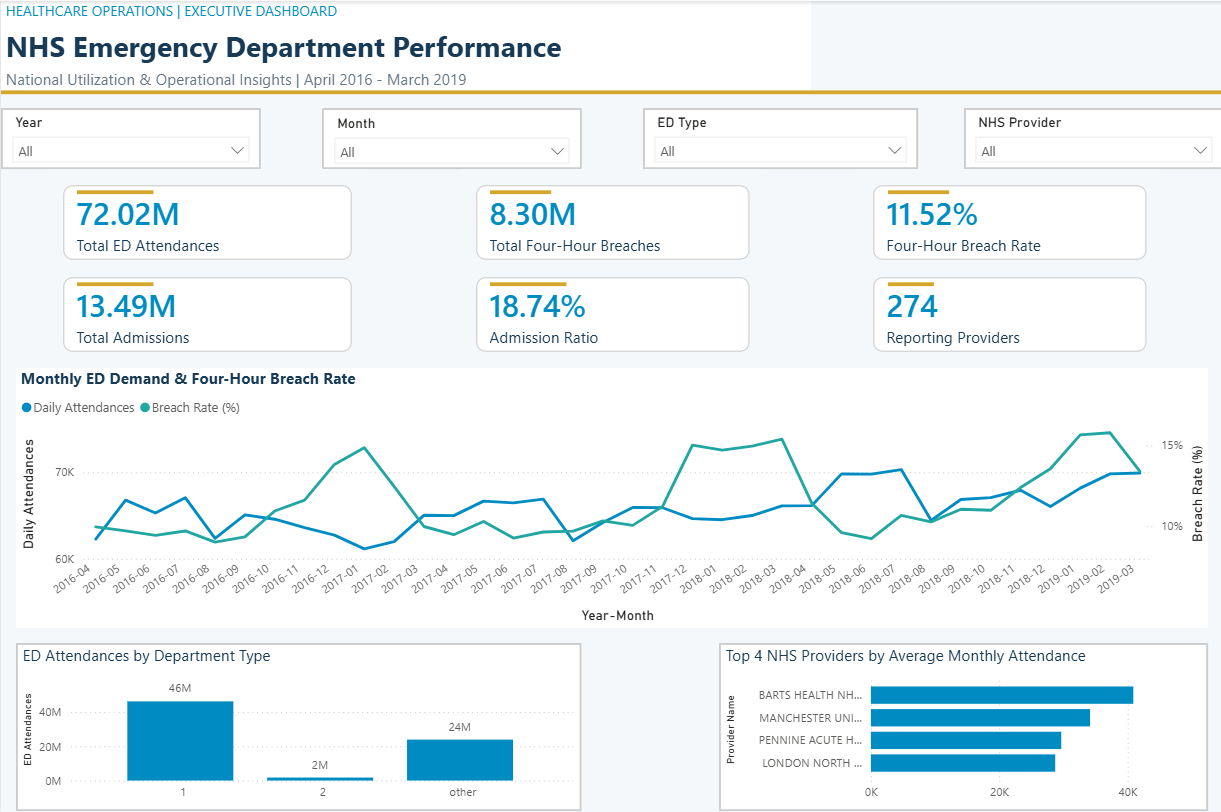

This screenshot's page, from the dashboard's own definition file:
{"tool":"powerbi","page":{"name":"Page 1","canvas":[1280,850],"ordinal":0},"visuals":[{"type":"slicer","fields":{"Values":["DateTable.Year"]},"box":[0,112,272,64],"z":0},{"type":"slicer","fields":{"Values":["DateTable.Month"]},"box":[336,112,272,64],"z":1},{"type":"slicer","fields":{"Values":["nhs_er_activity.type"]},"box":[672,112,288,64],"z":2},{"type":"slicer","fields":{"Values":["nhs_providers.organisation_name"]},"box":[1008,112,272,64],"z":3},{"type":"cardVisual","fields":{"Data":["_Measures.Total ED Attendances"]},"box":[48,176,336,112],"z":4},{"type":"cardVisual","fields":{"Data":["_Measures.Four-Hour Breach Rate"]},"box":[896,176,320,112],"z":5},{"type":"cardVisual","fields":{"Data":["_Measures.Total Admissions"]},"box":[48,272,336,112],"z":6},{"type":"cardVisual","fields":{"Data":["_Measures.Admission Ratio"]},"box":[480,272,320,112],"z":7},{"type":"cardVisual","fields":{"Data":["_Measures.Reporting Providers"]},"box":[896,272,320,112],"z":8},{"type":"cardVisual","fields":{"Data":["_Measures.Total Four-Hour Breaches"]},"box":[480,176,320,112],"z":9},{"type":"lineChart","title":"Monthly ED Demand & Four-Hour Breach Rate","fields":{"Category":["DateTable.Year-Month"],"Y":["_Measures.Average Daily ED Attendances"],"Y2":["_Measures.Four-Hour Breach Rate"]},"box":[16,384,1248,272],"z":10},{"type":"textbox","title":"HEALTHCARE OPERATIONS | EXECUTIVE DASHBOARD","box":[0,0,848,96],"z":11},{"type":"clusteredColumnChart","title":"ED Attendances by Department Type","fields":{"Category":["nhs_er_activity.type"],"Y":["_Measures.Total ED Attendances"]},"box":[16,672,592,176],"z":12},{"type":"clusteredBarChart","title":"Top 4 NHS Providers by Average Monthly Attendance","fields":{"Category":["nhs_providers.organisation_name"],"Y":["_Measures.Average Monthly ED Attendances"]},"box":[752,672,512,176],"z":13},{"type":"shape","box":[0,80,1280,32],"z":14},{"type":"shape","box":[80,160,80,80],"z":15},{"type":"shape","box":[928,256,48,80],"z":16},{"type":"shape","box":[512,256,80,80],"z":17},{"type":"shape","box":[80,256,80,80],"z":18},{"type":"shape","box":[928,160,64,80],"z":19},{"type":"shape","box":[512,160,64,80],"z":20}]}

Visuals, with their boxes in screenshot pixels (x1, y1, x2, y2), scaled from the page's 1280x850 canvas onto the 1221x812 screenshot:
slicer - DateTable.Year: detection(0, 107, 259, 168)
slicer - DateTable.Month: detection(321, 107, 580, 168)
slicer - nhs_er_activity.type: detection(641, 107, 916, 168)
slicer - nhs_providers.organisation_name: detection(962, 107, 1220, 168)
cardVisual - _Measures.Total ED Attendances: detection(46, 168, 366, 275)
cardVisual - _Measures.Four-Hour Breach Rate: detection(855, 168, 1160, 275)
cardVisual - _Measures.Total Admissions: detection(46, 260, 366, 367)
cardVisual - _Measures.Admission Ratio: detection(458, 260, 763, 367)
cardVisual - _Measures.Reporting Providers: detection(855, 260, 1160, 367)
cardVisual - _Measures.Total Four-Hour Breaches: detection(458, 168, 763, 275)
"Monthly ED Demand & Four-Hour Breach Rate" lineChart: detection(15, 367, 1206, 627)
"HEALTHCARE OPERATIONS | EXECUTIVE DASHBOARD" textbox: detection(0, 0, 809, 92)
"ED Attendances by Department Type" clusteredColumnChart: detection(15, 642, 580, 810)
"Top 4 NHS Providers by Average Monthly Attendance" clusteredBarChart: detection(717, 642, 1206, 810)
shape: detection(0, 76, 1220, 107)
shape: detection(76, 153, 153, 229)
shape: detection(885, 245, 931, 321)
shape: detection(488, 245, 565, 321)
shape: detection(76, 245, 153, 321)
shape: detection(885, 153, 946, 229)
shape: detection(488, 153, 549, 229)
